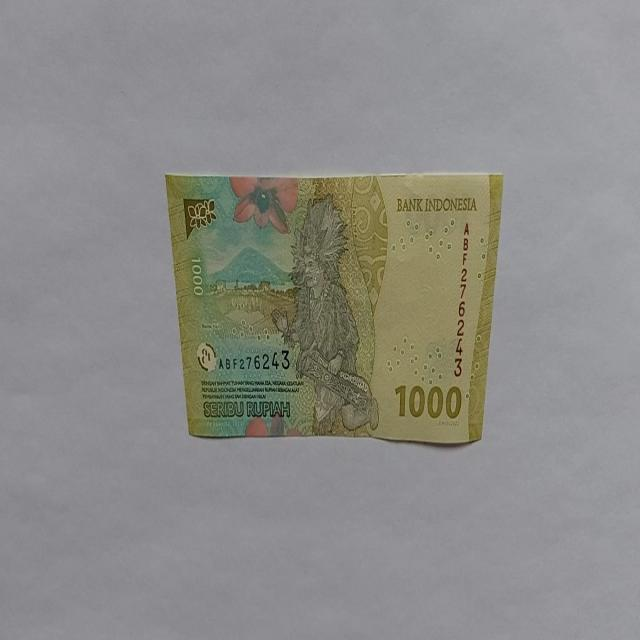seribu rupiah kertas: (164, 170, 503, 444)
